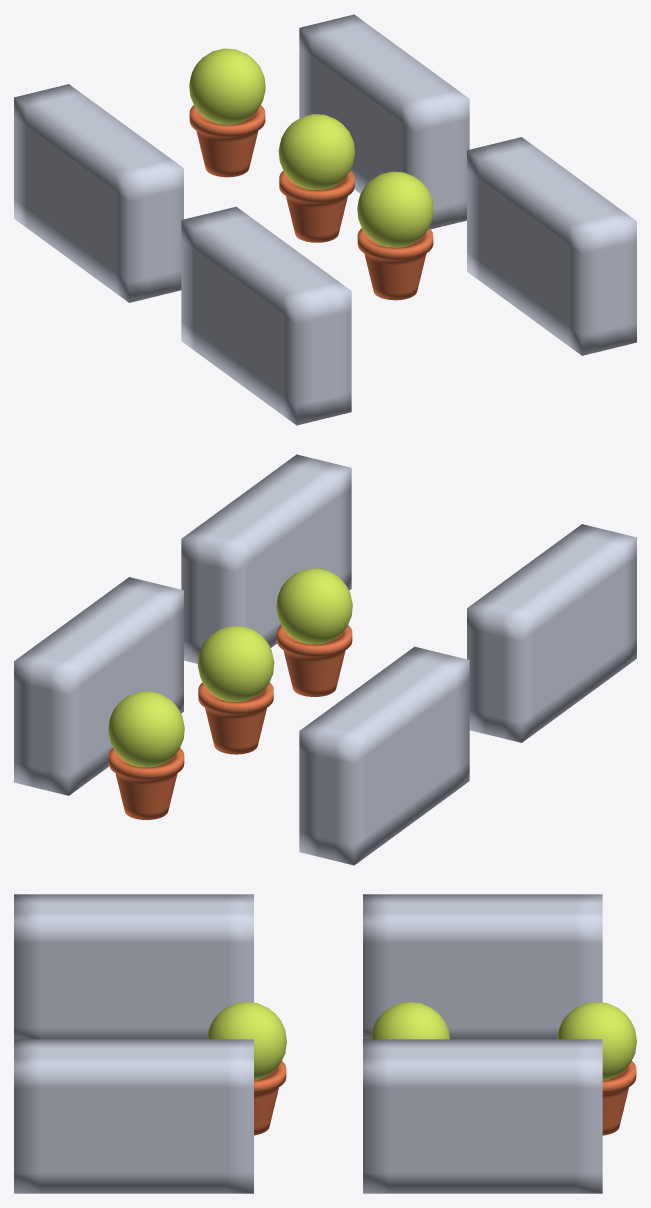
Rendered from world.glb.
The picture shows the model from 3 angles, top to bottom: view 1: azimuth 30°, elevation 25°; view 2: azimuth 150°, elevation 25°; view 3: azimuth 270°, elevation 25°; orthographic projection. The views are drawn at different scales.
Visible parts, largest first — view 1: Cube.002, Cube.001, Cube.004, Cube.003, Icosphere, Icosphere.002, Icosphere.001, Cylinder.002, Cylinder, Cylinder.001; view 2: Cube.004, Cube.002, Cube.003, Cube.001, Icosphere, Icosphere.002, Icosphere.001, Cylinder, Cylinder.002, Cylinder.001; view 3: Cube.001, Cube.003, Cube.002, Cube.004, Icosphere.002, Icosphere, Icosphere.001, Cylinder.002, Cylinder.
Boxes of the visible parts, bbox=[...] form: Cube.002: bbox=[181, 206, 351, 425]; Cube.001: bbox=[467, 137, 636, 355]; Cube.004: bbox=[14, 84, 183, 302]; Cube.003: bbox=[299, 14, 469, 229]; Icosphere: bbox=[357, 171, 433, 247]; Icosphere.002: bbox=[189, 48, 265, 124]; Icosphere.001: bbox=[278, 114, 354, 189]; Cylinder.002: bbox=[189, 105, 265, 177]; Cylinder: bbox=[357, 228, 433, 300]; Cylinder.001: bbox=[279, 170, 354, 242]; Cube.004: bbox=[299, 646, 469, 865]; Cube.002: bbox=[467, 524, 636, 742]; Cube.003: bbox=[14, 577, 183, 795]; Cube.001: bbox=[181, 454, 351, 663]; Icosphere: bbox=[276, 568, 352, 644]; Icosphere.002: bbox=[108, 691, 184, 767]; Icosphere.001: bbox=[197, 625, 274, 701]; Cylinder: bbox=[276, 625, 352, 696]; Cylinder.002: bbox=[108, 748, 184, 819]; Cylinder.001: bbox=[198, 682, 273, 754]; Cube.001: bbox=[14, 1039, 253, 1193]; Cube.003: bbox=[363, 1039, 602, 1193]; Cube.002: bbox=[14, 894, 253, 1039]; Cube.004: bbox=[363, 894, 602, 1039]; Icosphere.002: bbox=[557, 1002, 636, 1080]; Icosphere: bbox=[207, 1002, 286, 1080]; Icosphere.001: bbox=[371, 1002, 449, 1039]; Cylinder.002: bbox=[602, 1061, 636, 1135]; Cylinder: bbox=[254, 1061, 286, 1135].
Size of the model in its own units: 3.07 by 1.04 by 4.67.
